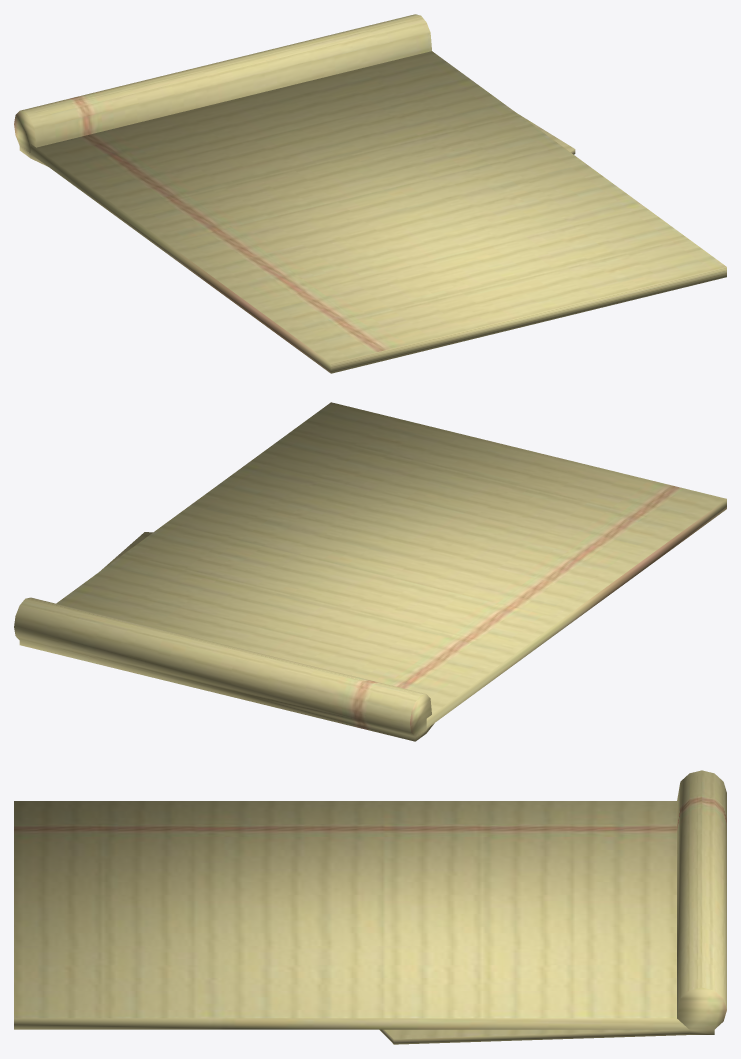
Rendered from LegalPad.obj.
3 views of the same model, one above another, from view 1: azimuth 30°, elevation 25°; view 2: azimuth 150°, elevation 25°; view 3: azimuth 270°, elevation 25° (orthographic). The views are drawn at different scales.
Parts seen in each view (by area): view 1: LegalPad.obj; view 2: LegalPad.obj; view 3: LegalPad.obj.
Boxes of the visible parts, x1,y1,x2,y2 form: LegalPad.obj: (14, 14, 726, 373); LegalPad.obj: (14, 402, 726, 741); LegalPad.obj: (14, 770, 726, 1044).
Bounding box in the file's own units: 4.69 × 0.4585 × 6.23.
